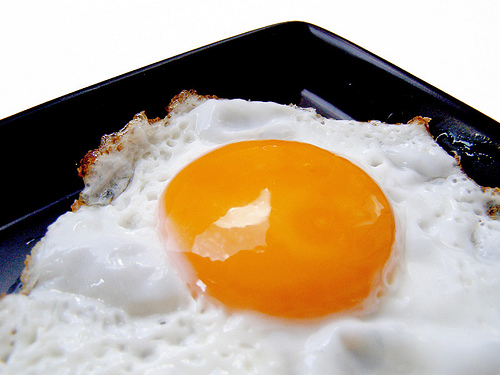egg: (0, 90, 499, 374)
